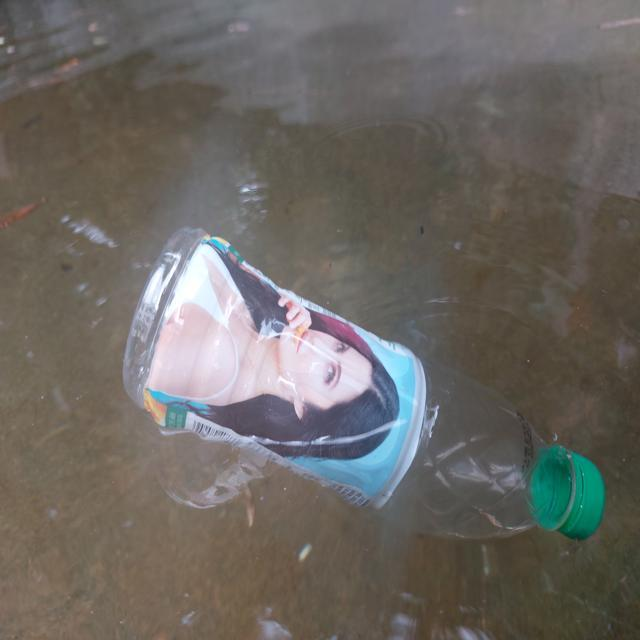waterbottle: (89, 200, 616, 550)
